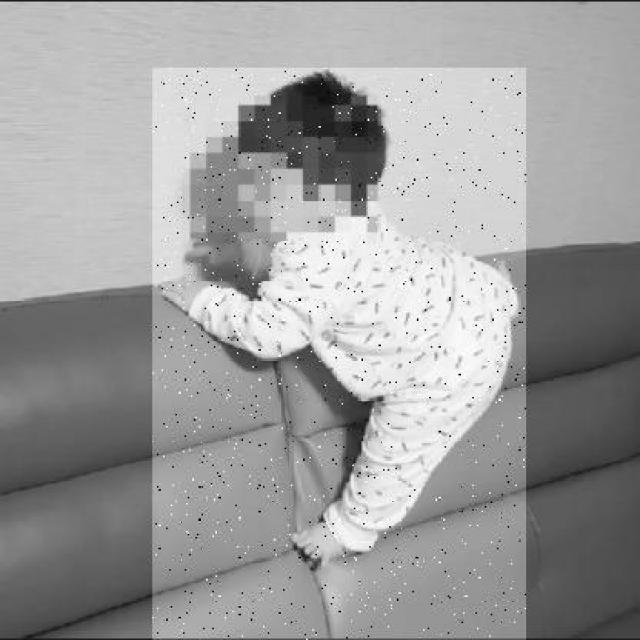child: (152, 67, 526, 640)
